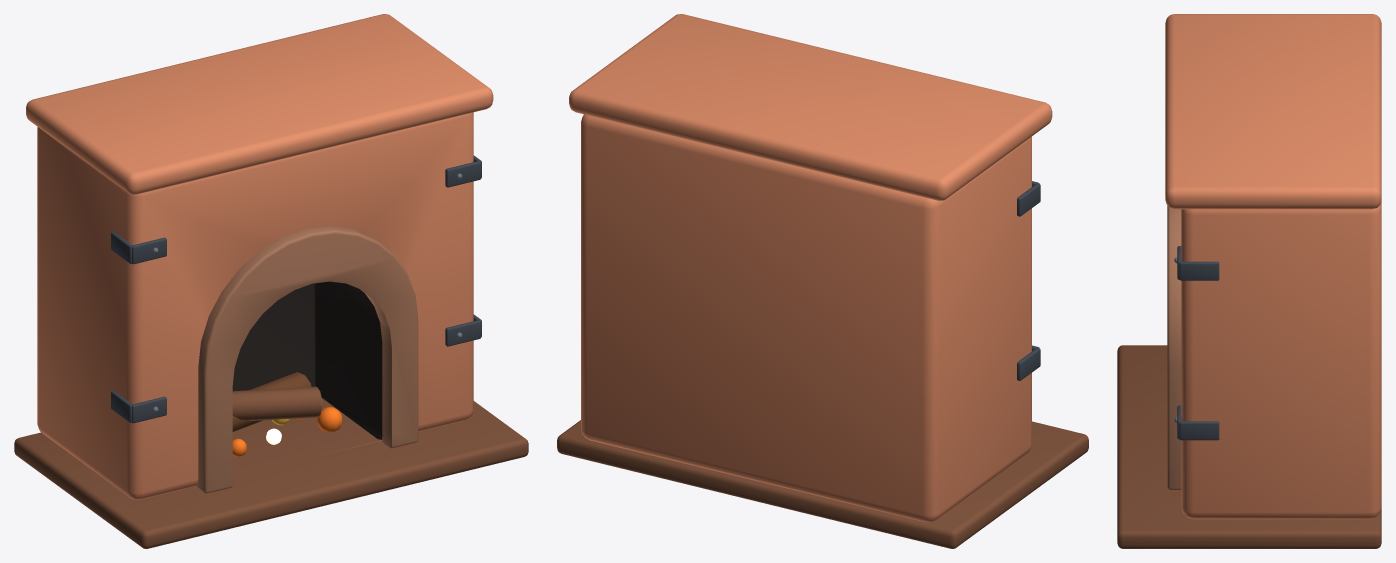
The model's file is lareira_terracota_arco.glb.
3 views of the same model, side by side, from view 1: azimuth 30°, elevation 25°; view 2: azimuth 150°, elevation 25°; view 3: azimuth 270°, elevation 25° (orthographic). The views are drawn at different scales.
Visible parts, largest first — view 1: lareira_terracota_arco; view 2: lareira_terracota_arco; view 3: lareira_terracota_arco.
Part boxes in pixels (<box>): lareira_terracota_arco: <box>14,14,528,548</box>; lareira_terracota_arco: <box>557,14,1088,548</box>; lareira_terracota_arco: <box>1117,14,1381,548</box>.
Bounding box in the file's own units: 1.12 × 0.98 × 0.66.
Materials: 2 (1 with a texture image).
